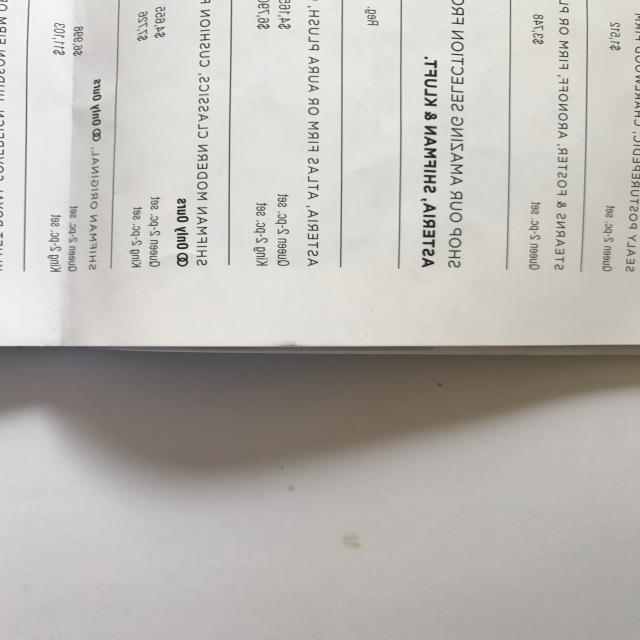paper: (0, 0, 640, 367)
